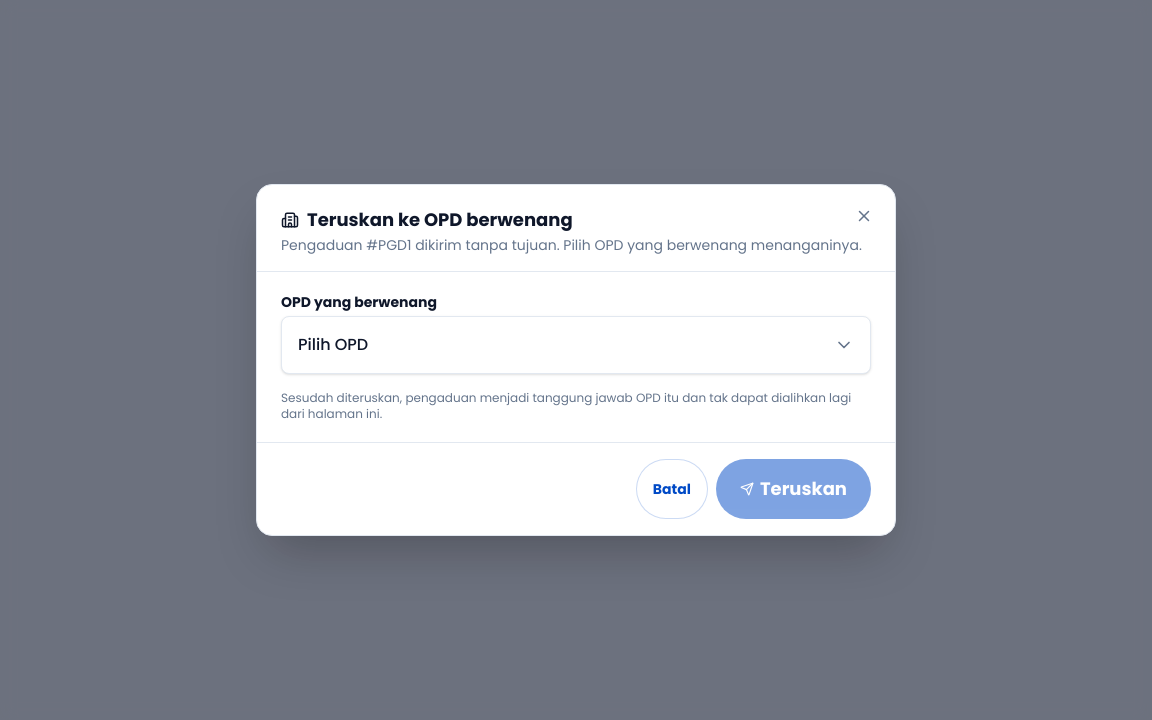
Test case: ForwardComplaintModal — pencarian OPD › menyaring daftar OPD menurut namanya
Click the button named "opd yang berwenang" at (333, 345), box [281,316,871,374]
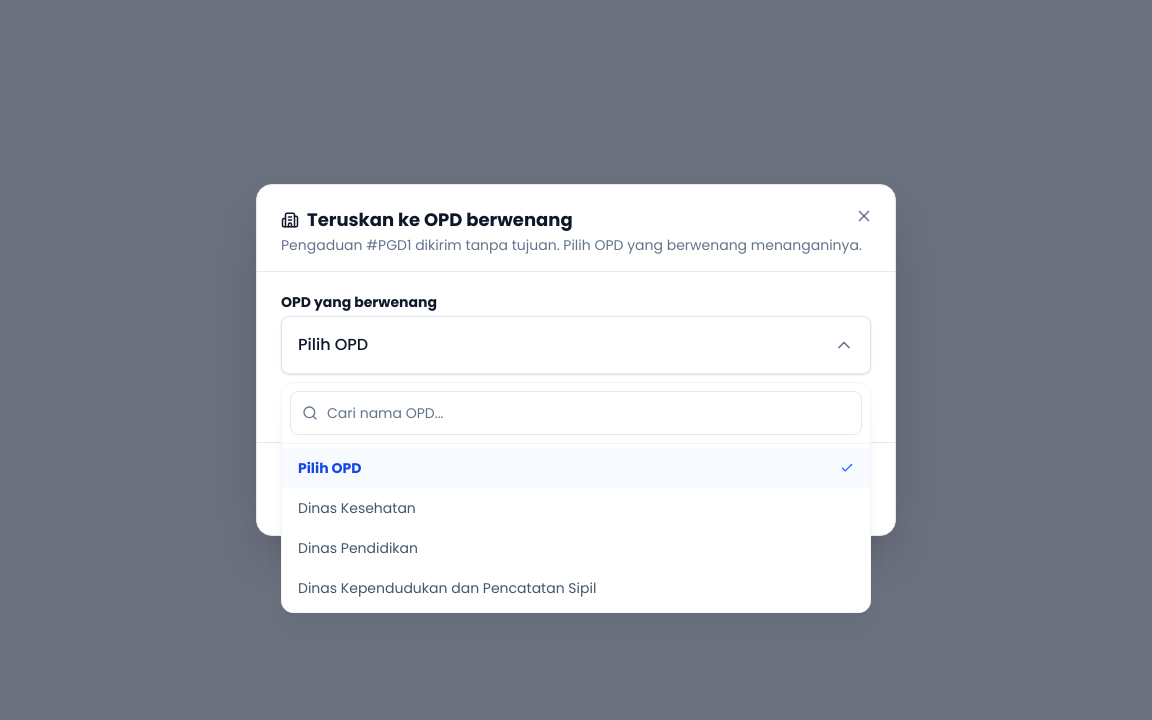
Type "pendidikan" into the field named "cari opd yang berwenang" at (576, 413), box [290,391,862,435]
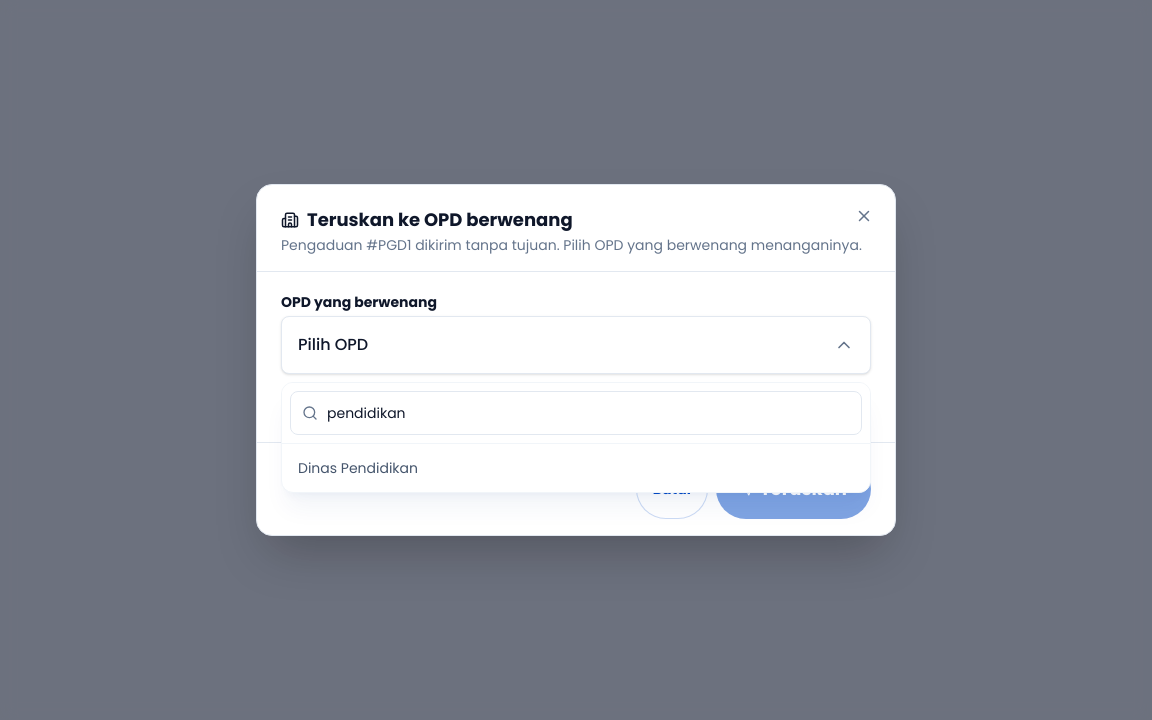
Expected: the button "Dinas Pendidikan" is shown, [282,448,870,488]
Expected: the button "Dinas Kesehatan" is gone
